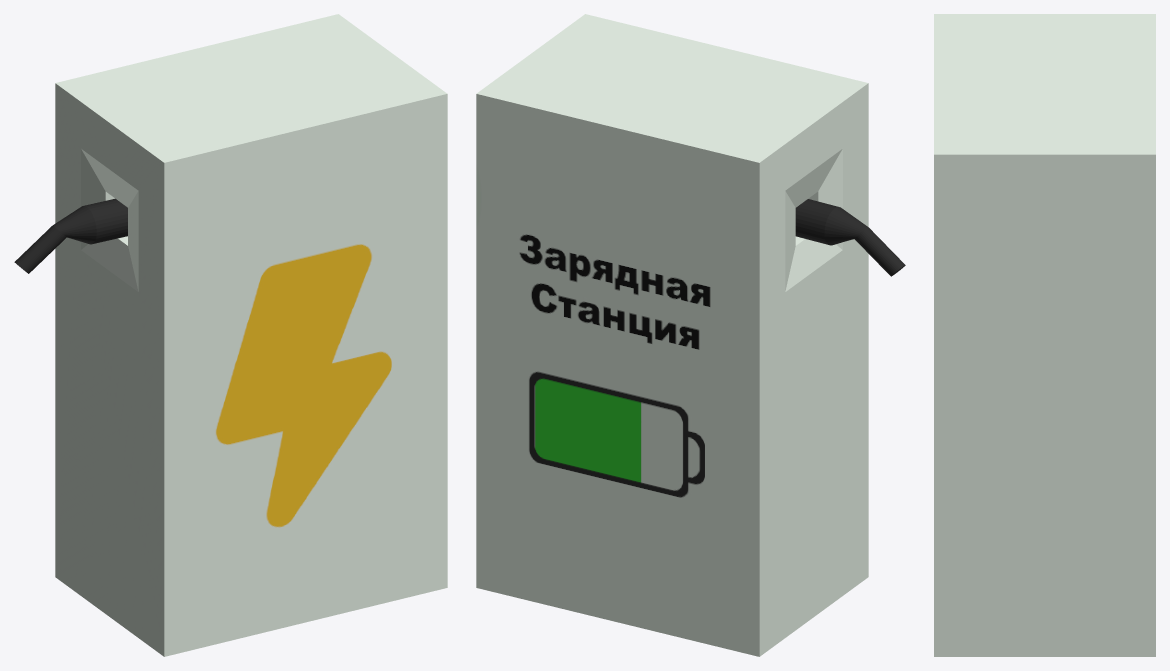
Rendered from Charging-port.fbx.
3 views of the same model, side by side, from view 1: azimuth 30°, elevation 25°; view 2: azimuth 150°, elevation 25°; view 3: azimuth 270°, elevation 25° (orthographic).
Parts seen in each view (by area): view 1: Cube, Cylinder; view 2: Cube, Cylinder; view 3: Cube.
Part boxes in pixels (x1=…): Cube: x1=55, y1=14, x2=447, y2=656; Cylinder: x1=14, y1=198, x2=127, y2=273; Cube: x1=476, y1=14, x2=868, y2=656; Cylinder: x1=795, y1=199, x2=905, y2=276; Cube: x1=934, y1=14, x2=1155, y2=656.
Size of the model in its own units: 794 by 1000 by 400.
